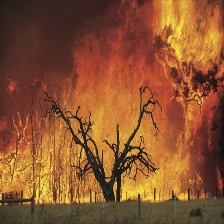fire: (5, 2, 223, 202)
